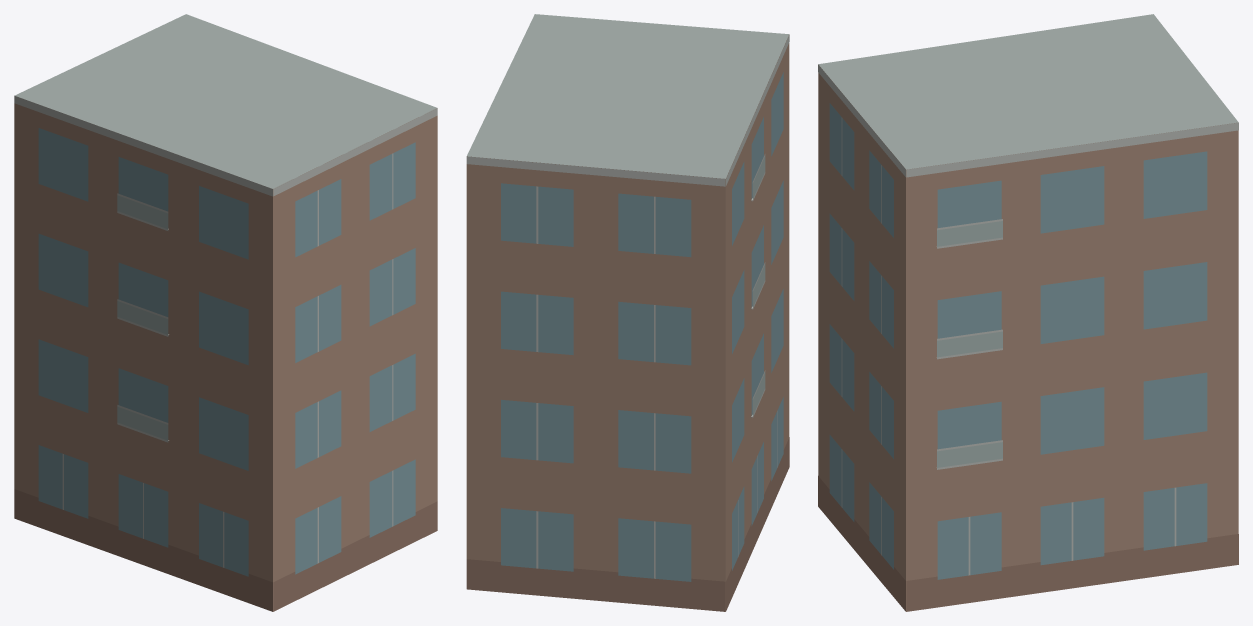
File: survey-upis-32904554.glb
The picture shows the model from 3 angles, left to right: view 1: azimuth 30°, elevation 25°; view 2: azimuth 150°, elevation 25°; view 3: azimuth 270°, elevation 25°; orthographic projection. The views are drawn at different scales.
Visible parts, largest first — view 1: survey-upis-32904554.tmp; view 2: survey-upis-32904554.tmp; view 3: survey-upis-32904554.tmp.
Part boxes in pixels (box(x1,y1,x2,y2)): survey-upis-32904554.tmp: box(14, 14, 437, 611); survey-upis-32904554.tmp: box(466, 14, 789, 611); survey-upis-32904554.tmp: box(818, 14, 1238, 611).
Size of the model in its own units: 10.27 by 13.6 by 11.73.
